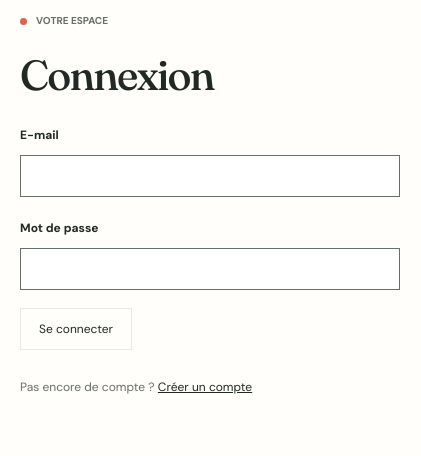
Test: LoginPage › shows the error when the credentials are refused
The image size is (421, 456).
Type "nobody@myshop.test" into the field labelled "E-mail" at [210, 176], box [20,155,400,197]
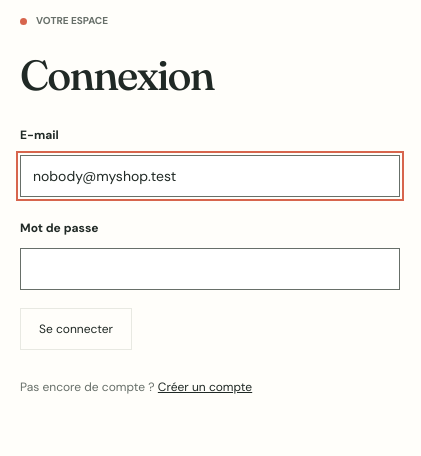
Type "wrong-password" into the password field labelled "Mot de passe" at [210, 270], box [20,248,400,290]
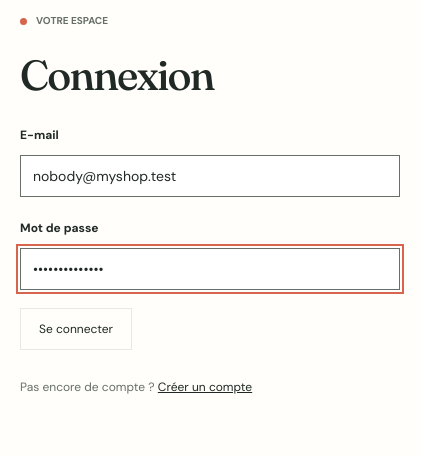
Click the button "Se connecter" at [76, 330], box [20,308,132,350]
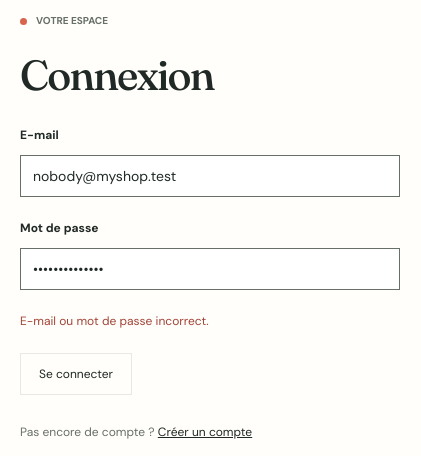
Expected: the message reads "E-mail ou mot de passe incorrect.", [20,314,208,330]
